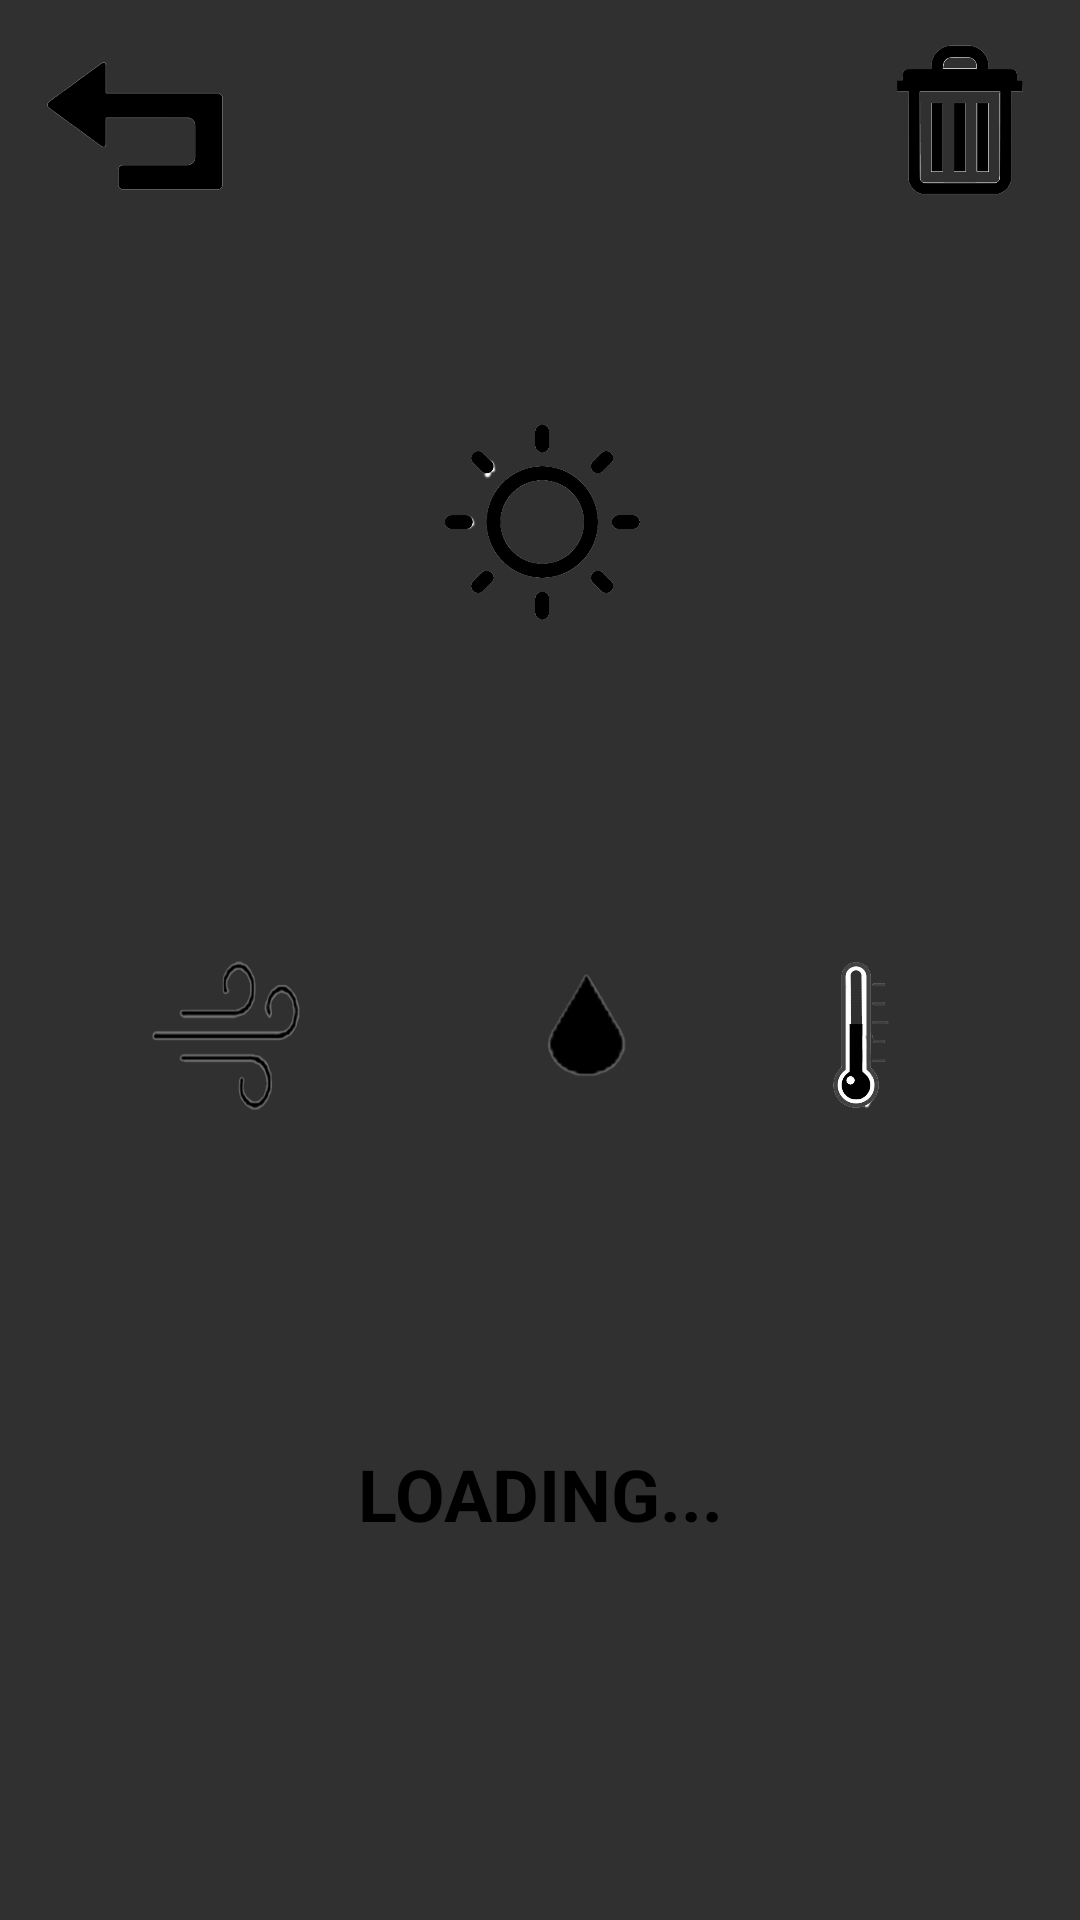

Icons on this 1080px×1920px Android screen, each with its box as bbox(x1, y1, x2, y2):
backicon: bbox(47, 62, 223, 190)
thermometericon: bbox(833, 962, 888, 1108)
watericon: bbox(548, 975, 625, 1075)
weather: bbox(445, 425, 640, 619)
wind: bbox(152, 962, 300, 1110)
